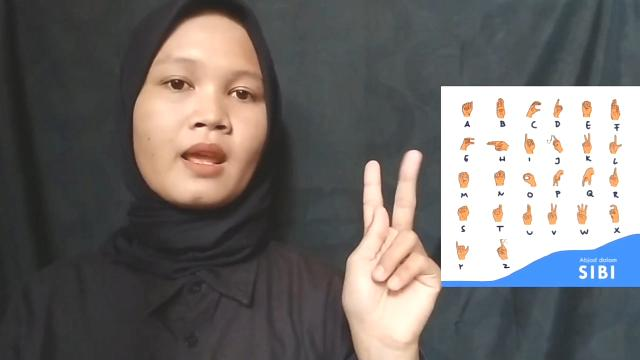K: (338, 140, 438, 360)
